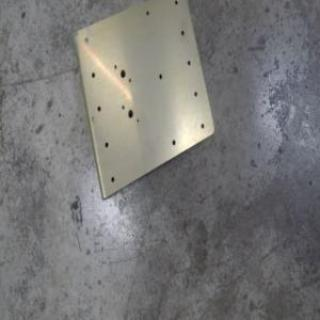MetalSheettrack_idkeyframe: (70, 0, 214, 203)
